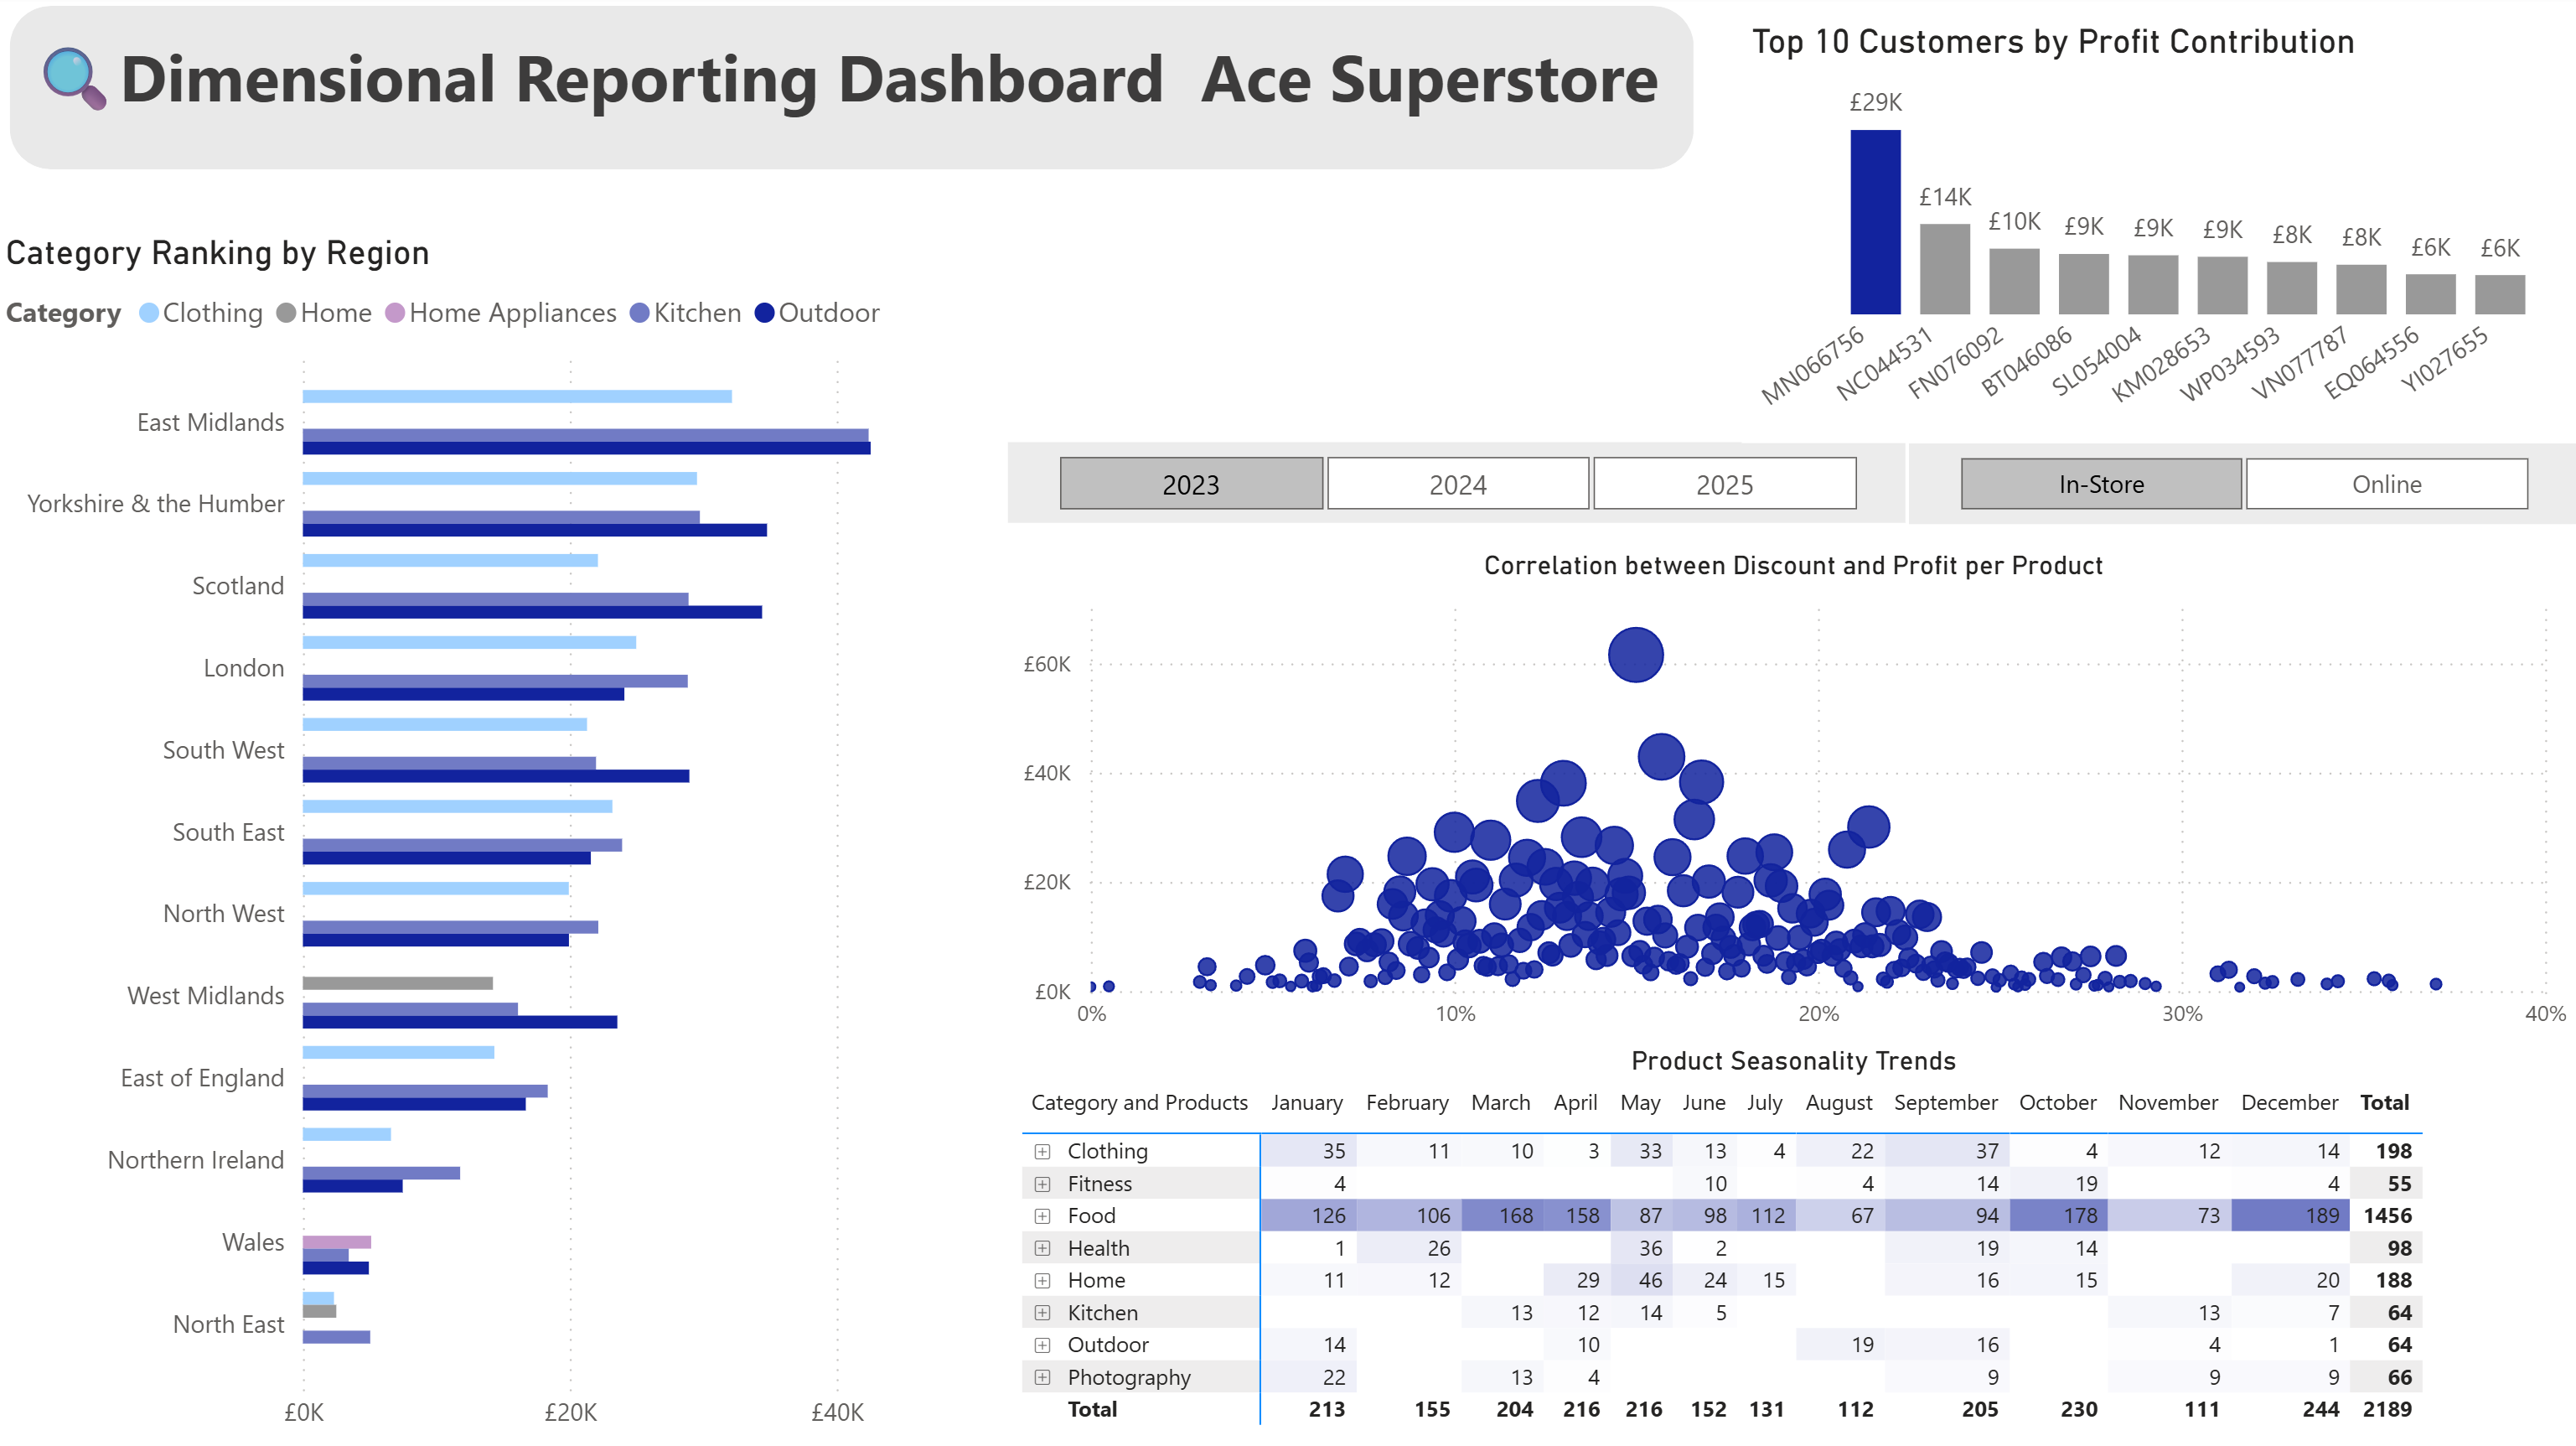

Layout of this report page (visuals, bound fields, positions):
{"tool":"powerbi","page":{"name":"Page 1","canvas":[1280,720],"ordinal":0},"visuals":[{"type":"pivotTable","title":"Product Seasonality Trends","fields":{"Rows":["dim_category.category_cleaned_id","vw_product_seasonality.product_name"],"Columns":["vw_product_seasonality.NameMonth"],"Values":["Sum(vw_product_seasonality.total_units_sold)"]},"box":[503.8,521,776.5,199.2],"z":0},{"type":"slicer","fields":{"Values":["vw_product_seasonality.year"]},"box":[502,221.4,445.2,39.9],"z":1000},{"type":"scatterChart","title":"Correlation between Discount and Profit per Product","fields":{"X":["vw_discount_impact_analysis.avg_discount_pct"],"Y":["Sum(vw_discount_impact_analysis.total_profit)"],"Size":["Sum(vw_discount_impact_analysis.total_sales)"]},"box":[503.8,274.7,776.5,246.2],"z":2000},{"type":"columnChart","title":"Top 10 Customers by Profit Contribution","fields":{"Category":["fact_sales.customer_id"],"Y":["Sum(fact_sales.profit)"]},"box":[865.8,12.6,407.8,209.2],"z":3000},{"type":"clusteredBarChart","title":"Category Ranking by Region","fields":{"Category":["vw_region_category_rankings.region"],"Y":["Sum(vw_region_category_rankings.total_profit)"],"Series":["vw_region_category_rankings.category"]},"box":[0,117.2,502,603],"z":4000},{"type":"slicer","fields":{"Values":["dim_order_mode.order_mode_id"]},"box":[949.1,222,331.1,39.9],"z":5000},{"type":"textbox","box":[0,12.5,842.4,73.6],"z":6000},{"type":"shape","box":[6.9,5,835.6,81.1],"z":7000}]}

Visuals, with their boxes in screenshot pixels (x1, y1, x2, y2), scaled from the page's 1280x720 canvas onto the 2576x1446 screenshot:
"Product Seasonality Trends" pivotTable: [left=1014, top=1046, right=2575, bottom=1445]
slicer - vw_product_seasonality.year: [left=1011, top=444, right=1906, bottom=525]
"Correlation between Discount and Profit per Product" scatterChart: [left=1014, top=552, right=2575, bottom=1046]
"Top 10 Customers by Profit Contribution" columnChart: [left=1742, top=25, right=2563, bottom=445]
"Category Ranking by Region" clusteredBarChart: [left=0, top=236, right=1011, bottom=1445]
slicer - dim_order_mode.order_mode_id: [left=1910, top=446, right=2575, bottom=526]
textbox: [left=0, top=25, right=1695, bottom=173]
shape: [left=14, top=10, right=1695, bottom=173]
